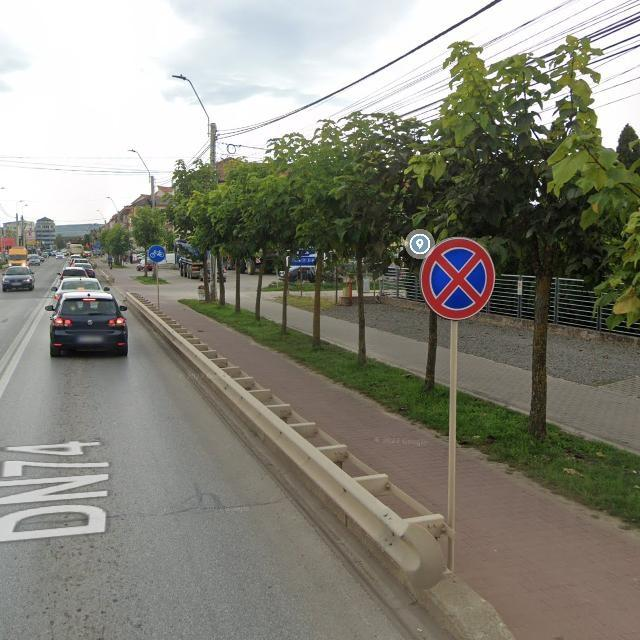forb_waiting: (419, 236, 497, 321)
